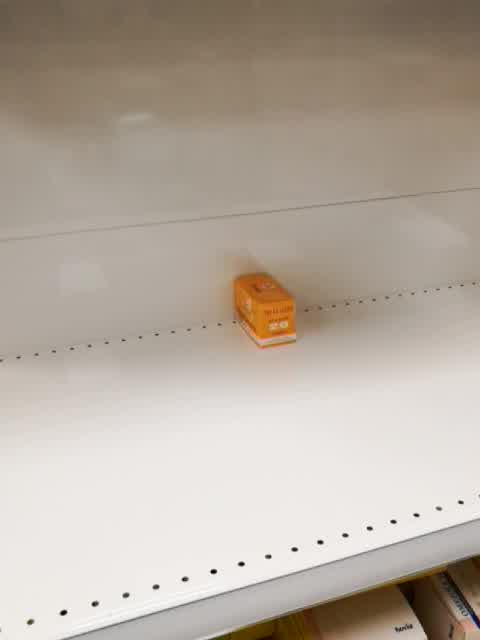jasminetea: (231, 273, 297, 349)
